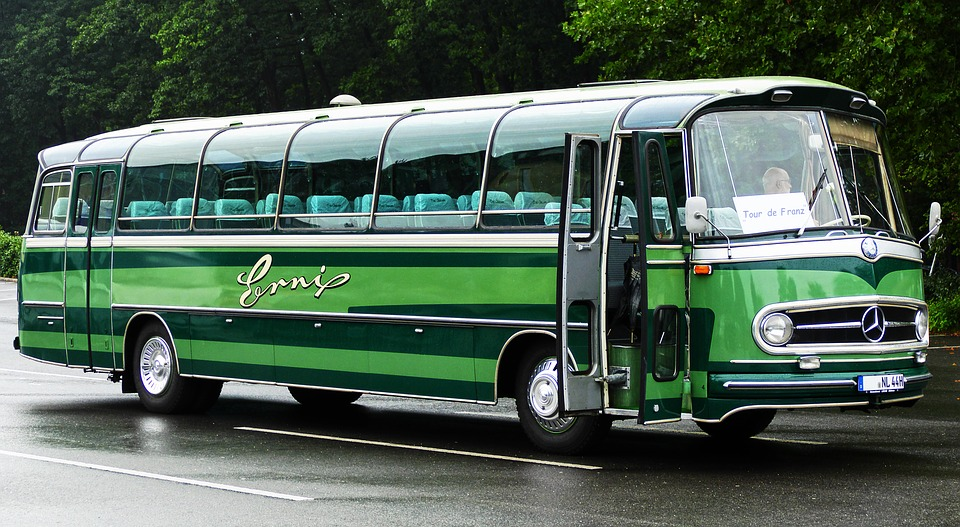bus: (17, 78, 931, 454)
